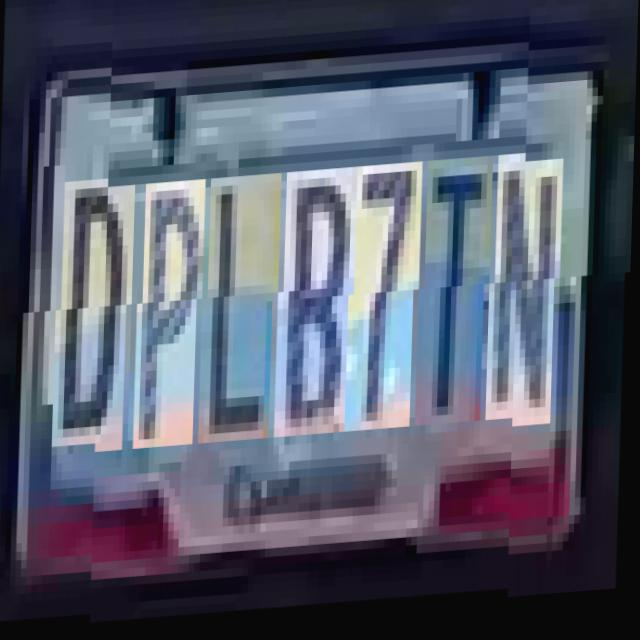7: (353, 168, 424, 438)
B: (282, 173, 359, 442)
D: (60, 187, 137, 456)
L: (206, 178, 283, 447)
N: (494, 160, 565, 428)
P: (141, 183, 207, 451)
T: (424, 164, 494, 433)
